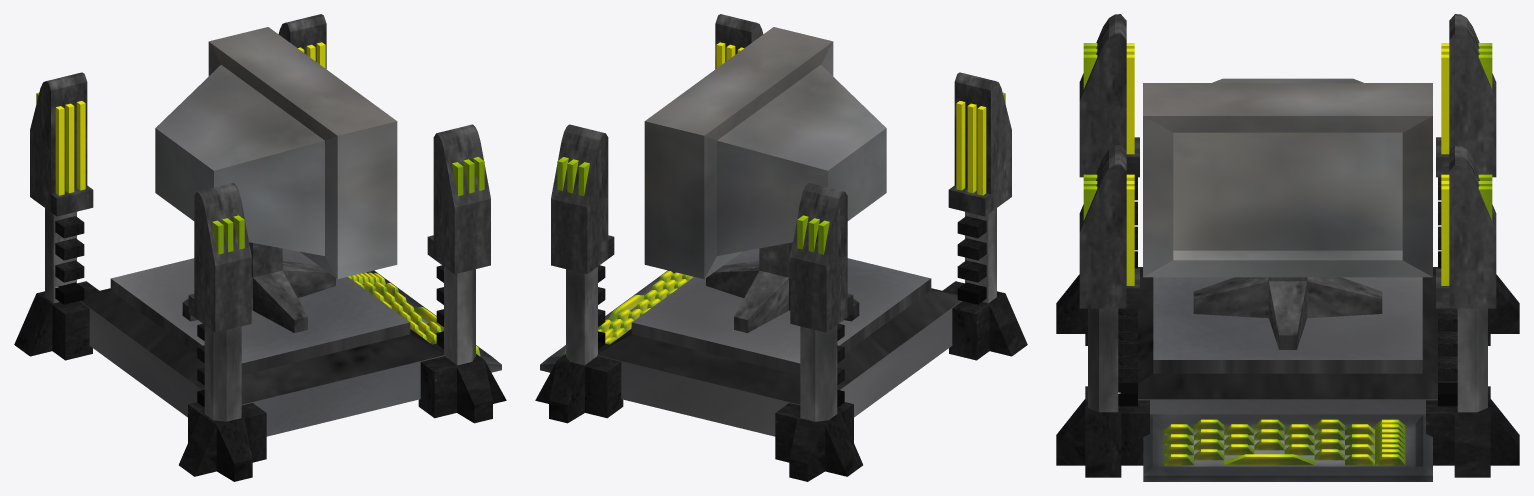
File: torremeucomputador.fbx
3 renders of one model, left to right at view 1: azimuth 30°, elevation 25°; view 2: azimuth 150°, elevation 25°; view 3: azimuth 270°, elevation 25°, orthographic. The views are drawn at different scales.
Visible parts, largest first — view 1: Cube.001; view 2: Cube.001; view 3: Cube.001.
Boxes of the visible parts, x1,y1,x2,y2 form: Cube.001: (14, 14, 506, 481); Cube.001: (535, 14, 1027, 481); Cube.001: (1056, 14, 1519, 481).
Size of the model in its own units: 460 by 373 by 492.
